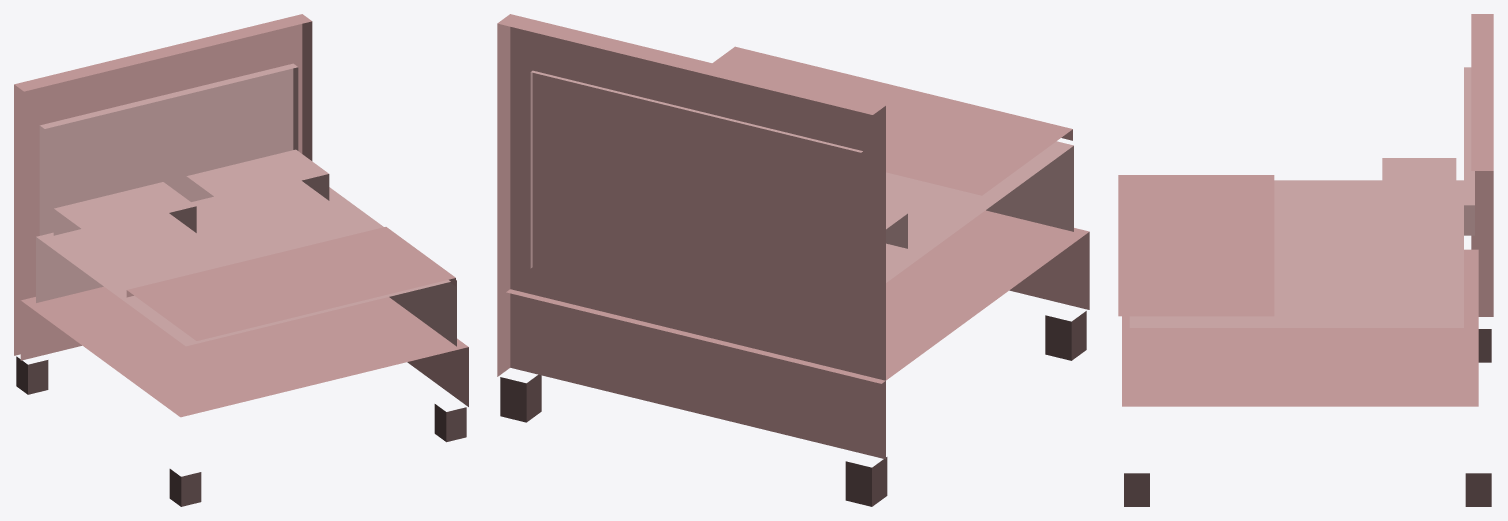
File: Bed-pink.glb
The picture shows the model from 3 angles, left to right: view 1: azimuth 30°, elevation 25°; view 2: azimuth 150°, elevation 25°; view 3: azimuth 270°, elevation 25°; orthographic projection. The views are drawn at different scales.
Visible parts, largest first — view 1: Bed; view 2: Bed; view 3: Bed.
Part boxes in pixels (left/top/right/bottom): Bed: left=14, top=14, right=468, bottom=506; Bed: left=497, top=14, right=1089, bottom=506; Bed: left=1118, top=14, right=1493, bottom=506.
Size of the model in its own units: 1 by 1 by 1.01.
